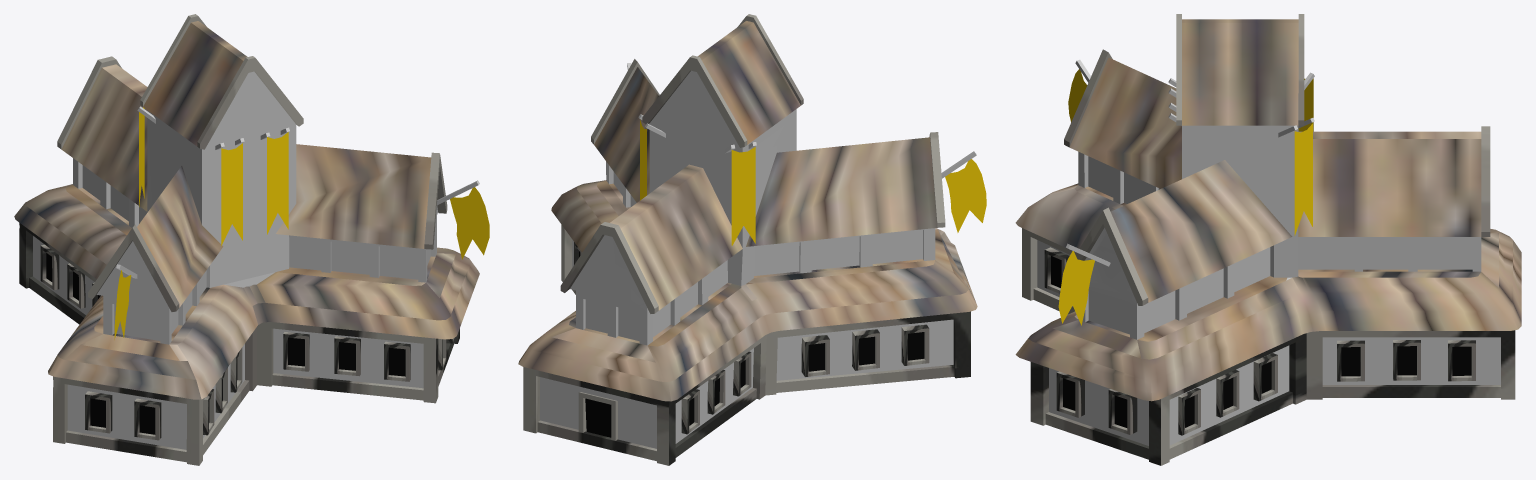
Rendered from props_s_temple.fbx.
The picture shows the model from 3 angles, left to right: view 1: azimuth 30°, elevation 25°; view 2: azimuth 150°, elevation 25°; view 3: azimuth 270°, elevation 25°; orthographic projection. The views are drawn at different scales.
Visible parts, largest first — view 1: Cube.003; view 2: Cube.003; view 3: Cube.003.
Boxes of the visible parts, x1=… form: Cube.003: x1=14, y1=14, x2=489, y2=465; Cube.003: x1=518, y1=14, x2=986, y2=465; Cube.003: x1=1015, y1=14, x2=1521, y2=465.
Bounding box in the file's own units: 147 × 106 × 140.
